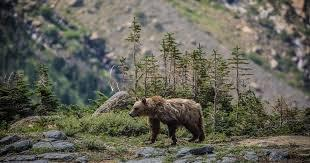bear: (129, 95, 206, 147)
